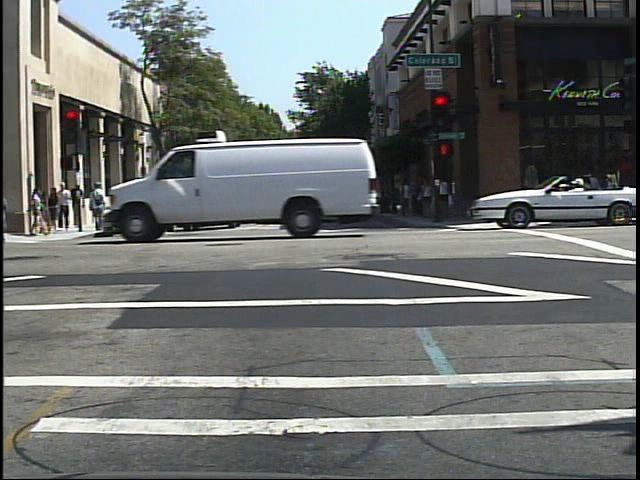person: (91, 180, 105, 231)
